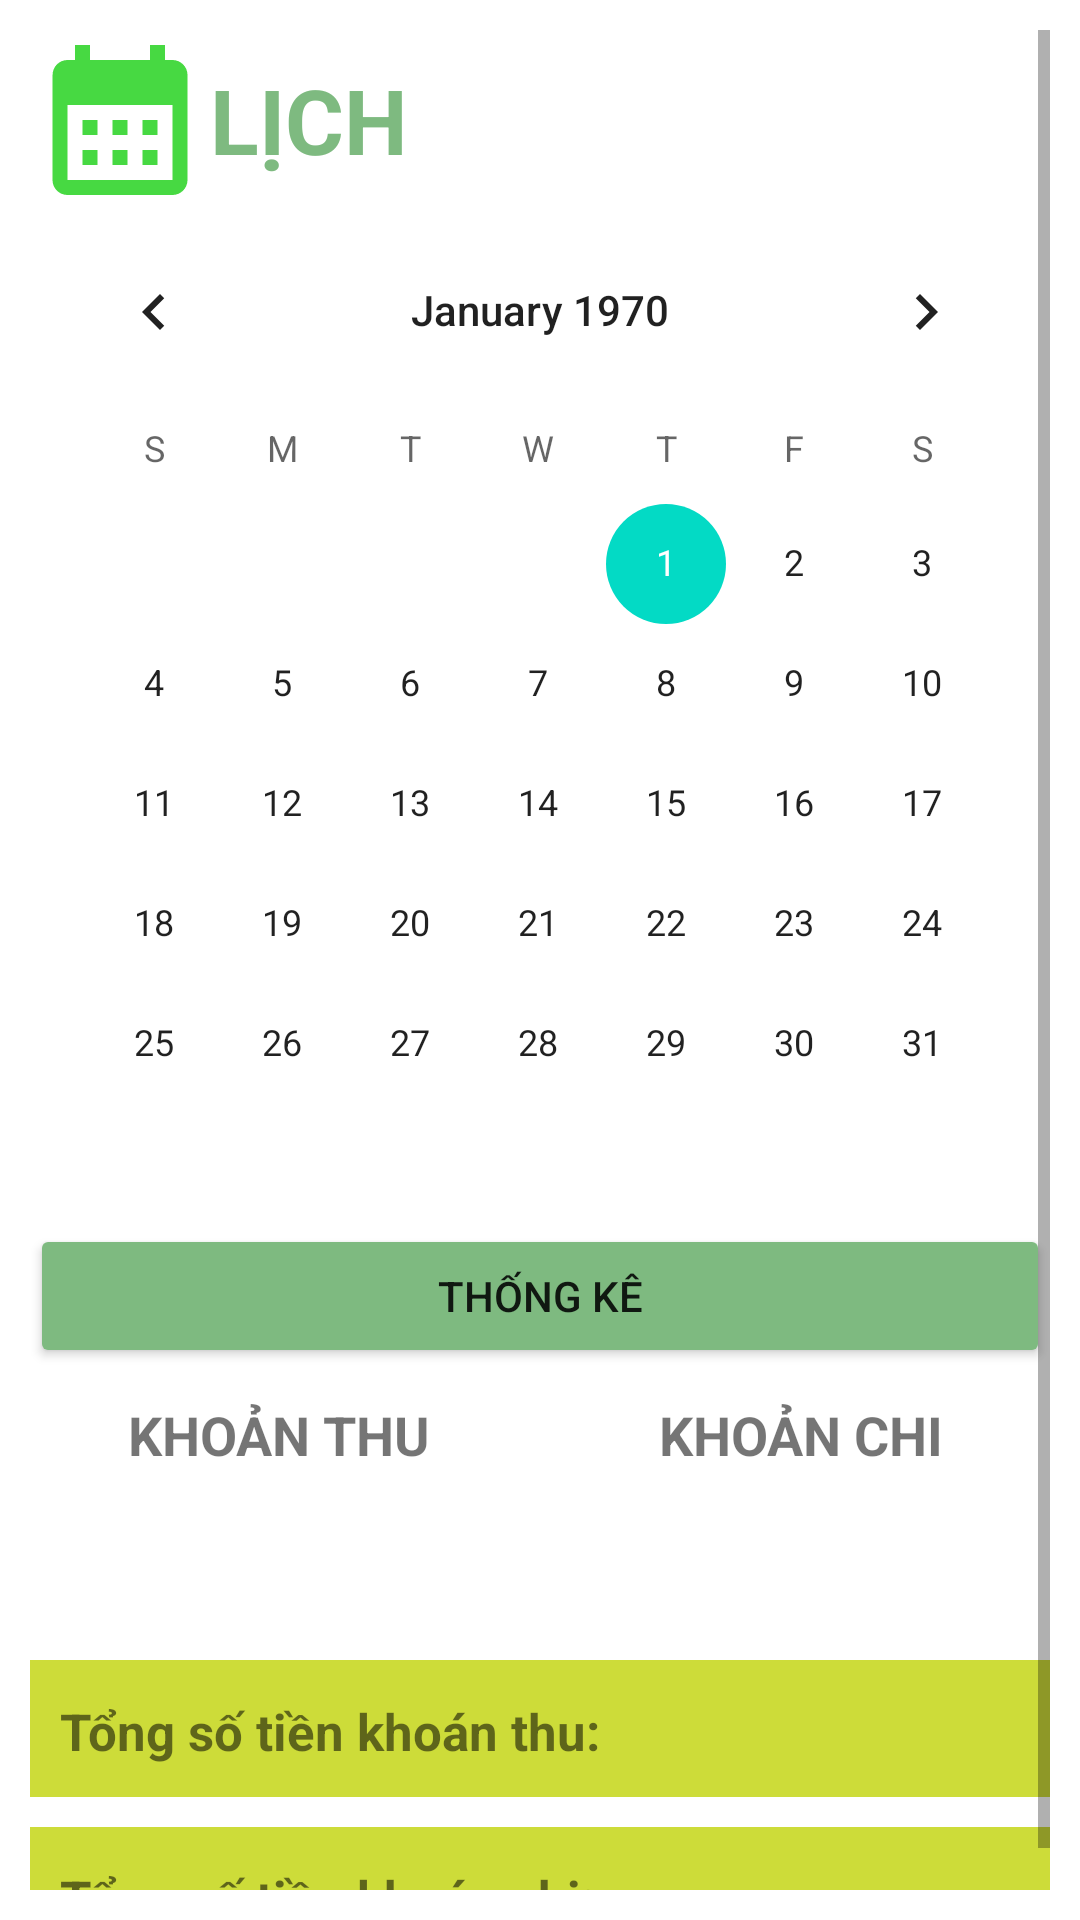

Point at icon controls on the screen. Image size 1080px×1920px, points as (x,y).
calendar month: (120,120)
